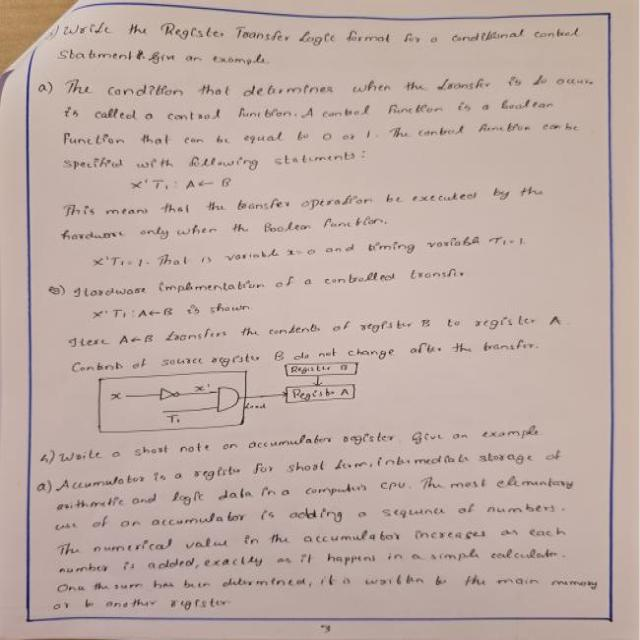Figure Detection - v3 Dataset Version2: (86, 358, 378, 440)
